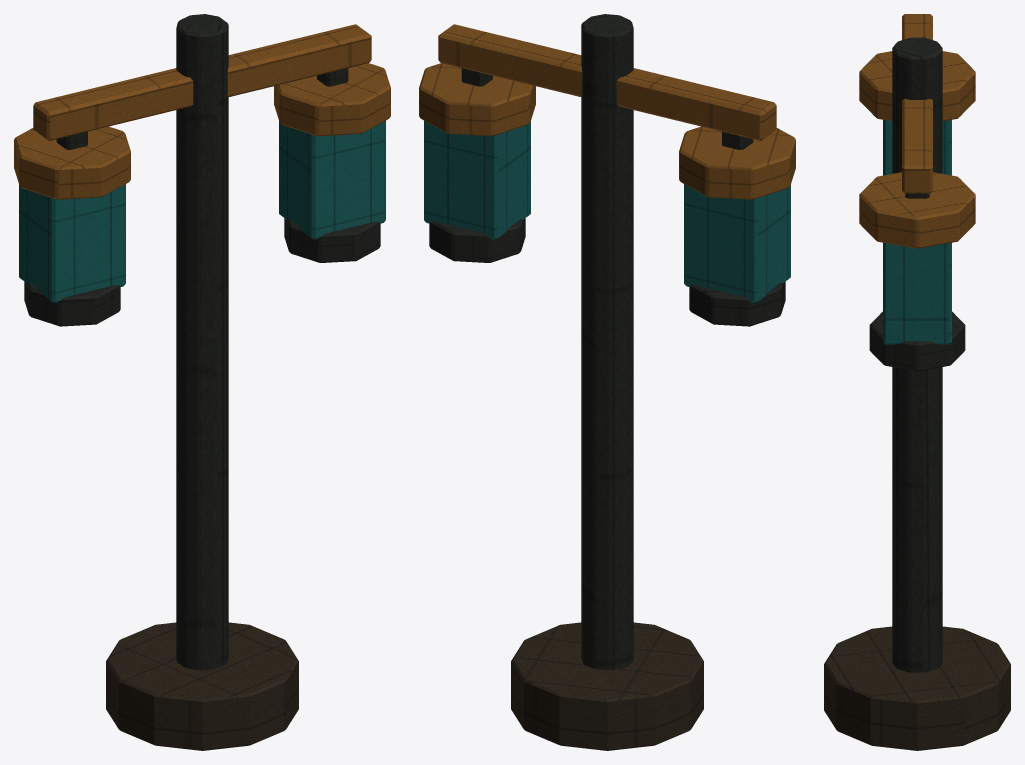
The model's file is iron-lamp-post.e2.glb.
3 renders of one model, left to right at view 1: azimuth 30°, elevation 25°; view 2: azimuth 150°, elevation 25°; view 3: azimuth 270°, elevation 25°, orthographic. The views are drawn at different scales.
Visible parts, largest first — view 1: IronLampPostE2; view 2: IronLampPostE2; view 3: IronLampPostE2.
Part boxes in pixels (bbox=[...]): IronLampPostE2: bbox=[14, 14, 390, 750]; IronLampPostE2: bbox=[419, 14, 795, 750]; IronLampPostE2: bbox=[824, 14, 1010, 750].
Bounding box in the file's own units: 1.18 × 2.12 × 0.54.
Materials: 1 (1 with a texture image).
